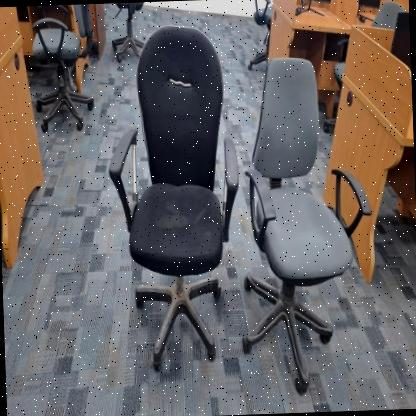chair: (230, 46, 387, 402), (99, 19, 251, 377)
